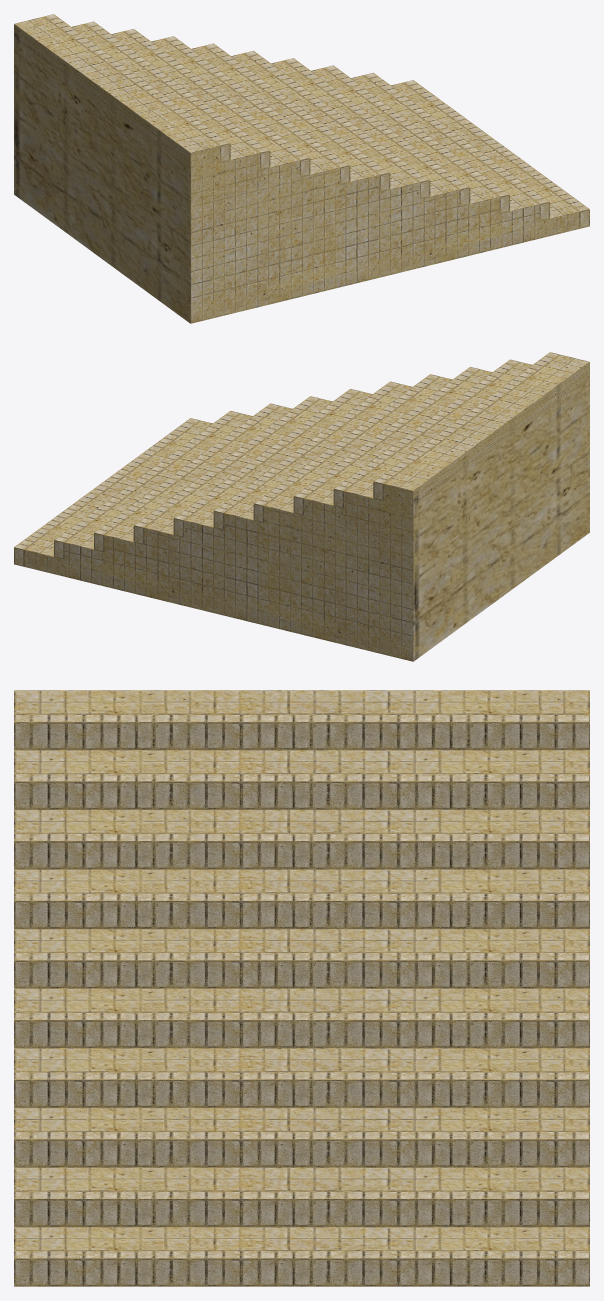
Rendered from desert_stairs_sm.dae.
The picture shows the model from 3 angles, top to bottom: view 1: azimuth 30°, elevation 25°; view 2: azimuth 150°, elevation 25°; view 3: azimuth 270°, elevation 25°; orthographic projection. The views are drawn at different scales.
Visible parts, largest first — view 1: desert_stairs_sm; view 2: desert_stairs_sm; view 3: desert_stairs_sm.
Boxes of the visible parts, left/top/right/bottom form: desert_stairs_sm: left=14, top=14, right=589, bottom=323; desert_stairs_sm: left=14, top=352, right=589, bottom=661; desert_stairs_sm: left=14, top=690, right=589, bottom=1286.
Bounding box in the file's own units: 7.47 × 5.72 × 3.05.
Materials: 2 (2 with a texture image).
